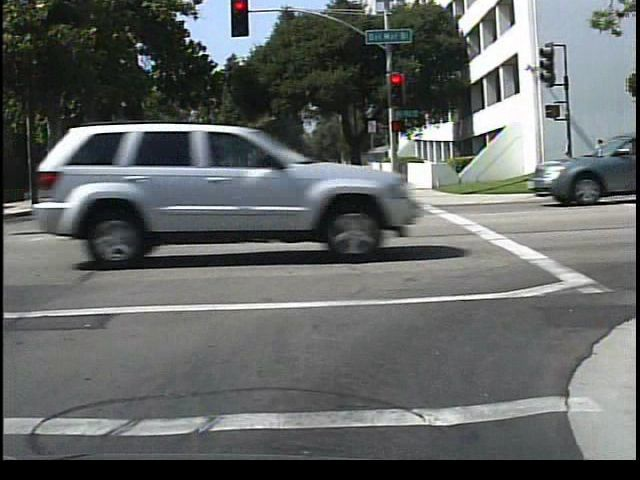person: (587, 129, 612, 187)
